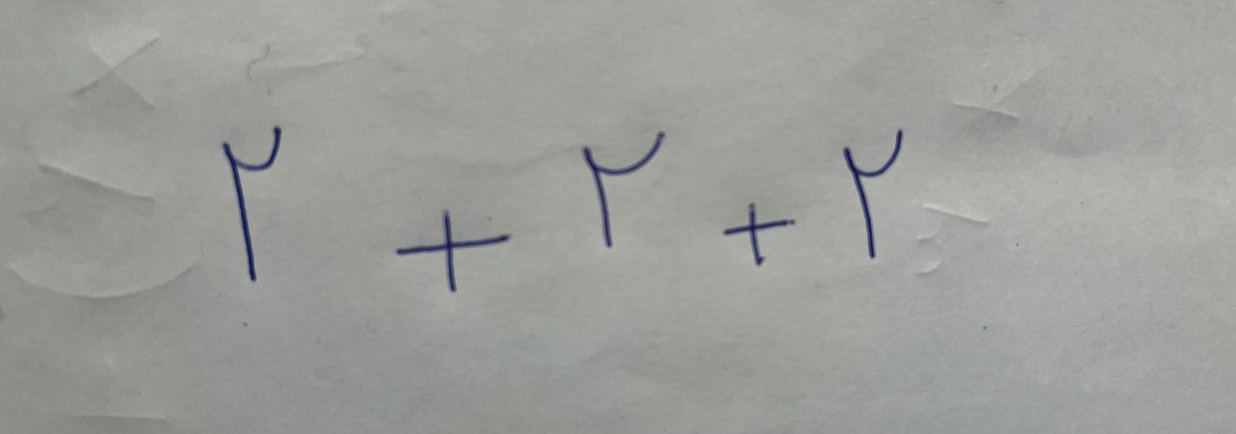character: (578, 131, 661, 248), (398, 204, 510, 290), (221, 128, 273, 280), (844, 132, 906, 254), (726, 197, 806, 283)
